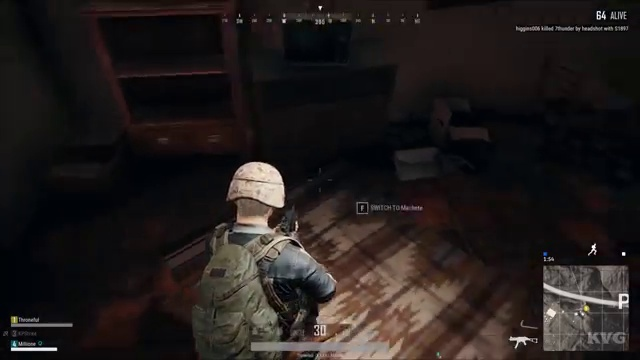Player: (172, 157, 349, 321)
